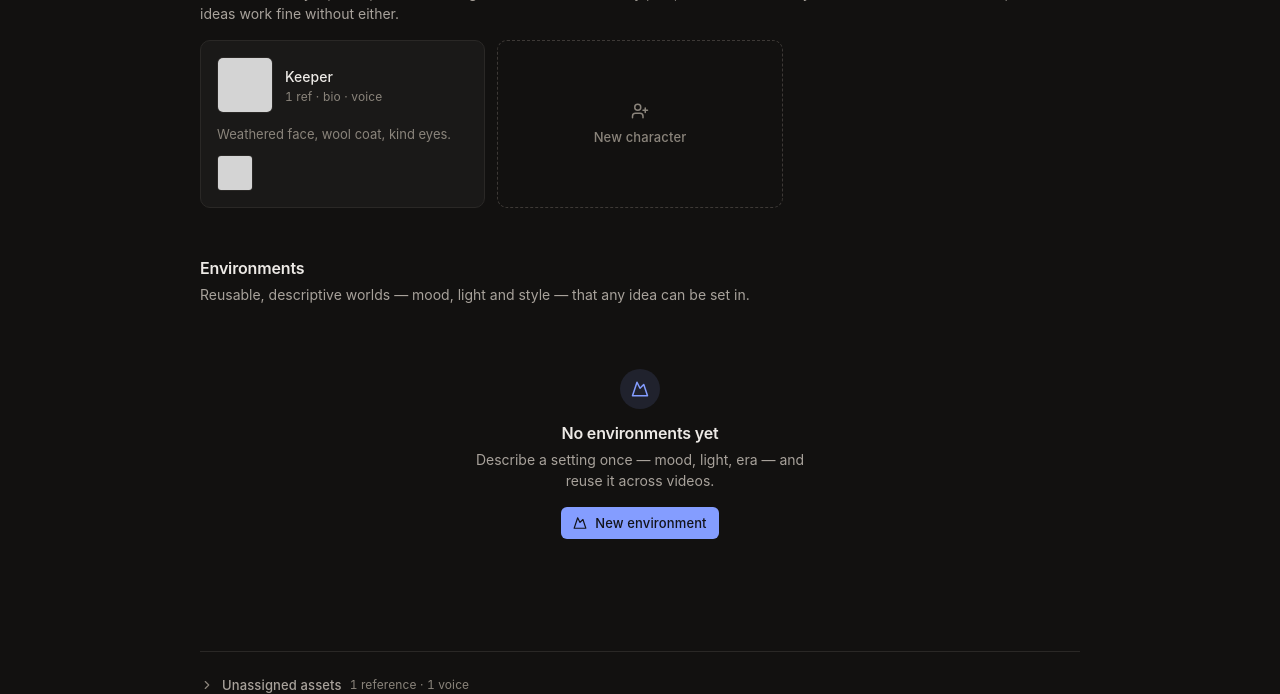
Test case: Cast — unassigned assets › assigns a voice by display NAME and surfaces a 409 as a persistent error toast
(page scrolled)
Click the button "Unassigned assets 1 reference · 1 voice".
click(335, 685)  # box [200, 676, 469, 693]
(page scrolled)
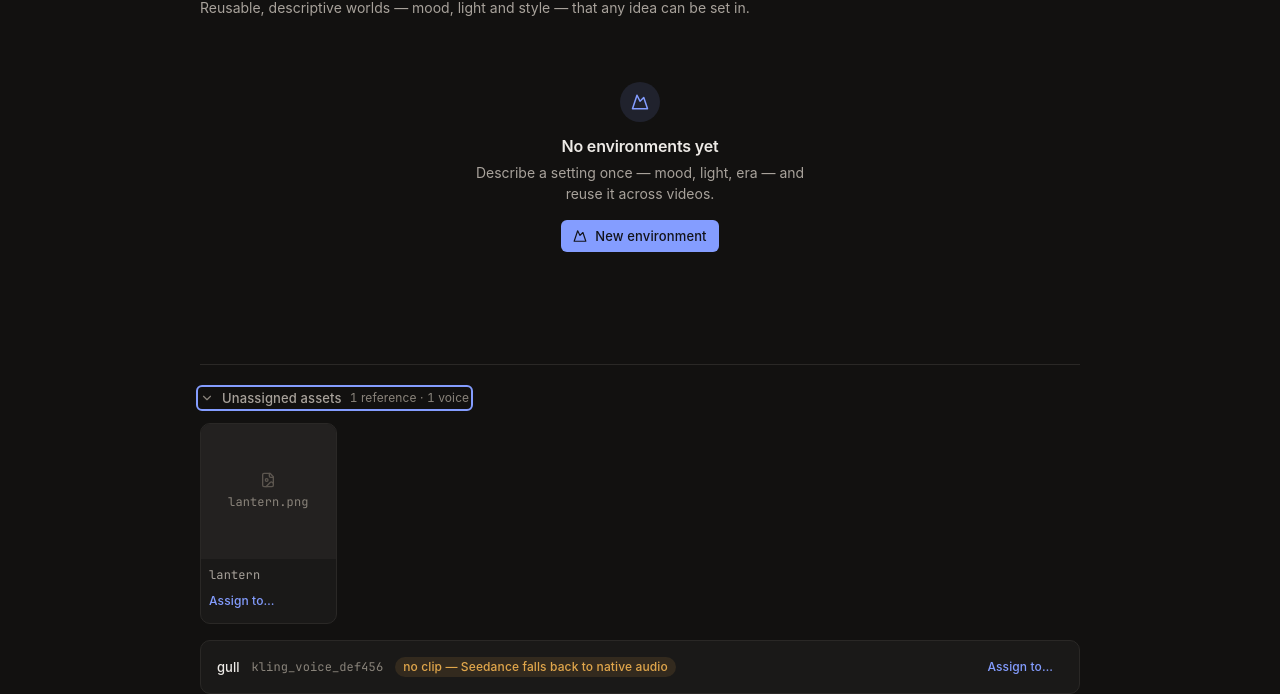
Click the button with aria-label "Assign voice gull to a character".
click(1020, 667)  # box [977, 653, 1063, 681]
(page scrolled)
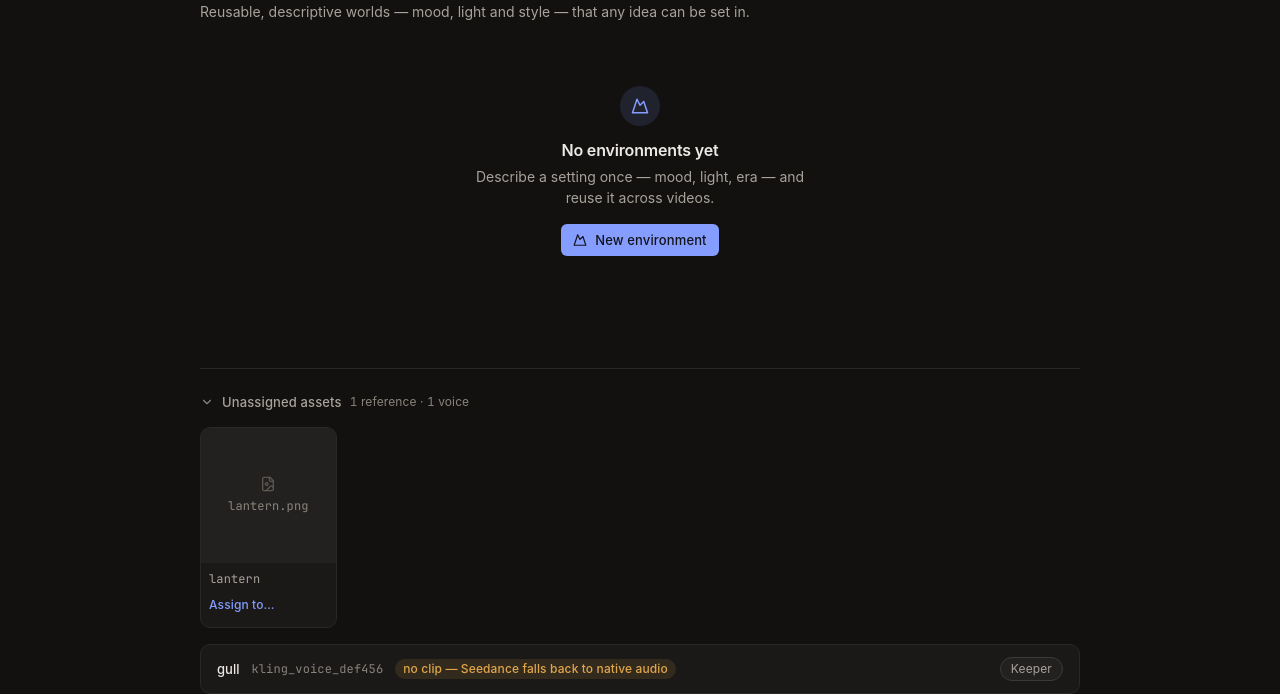
Click the button "Keeper".
click(1031, 669)  # box [1000, 657, 1063, 681]
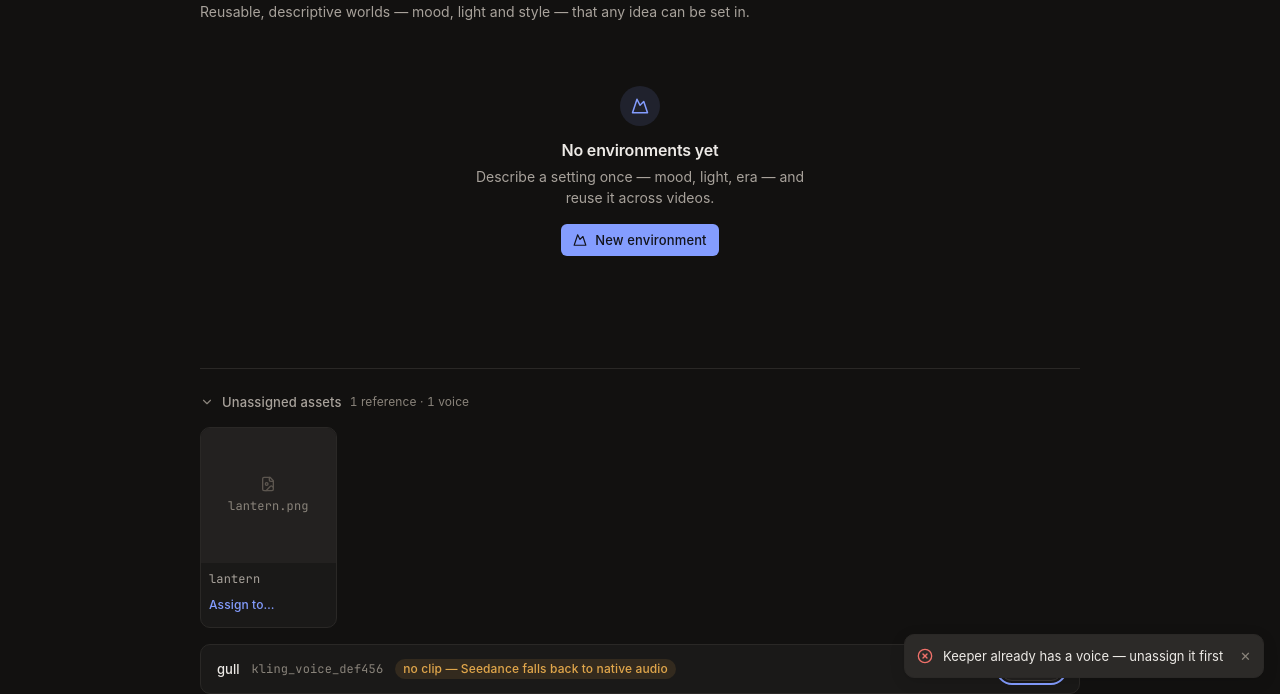
expect the message shows "Keeper already has a voice — unassign it first": met, box [943, 648, 1223, 664]
